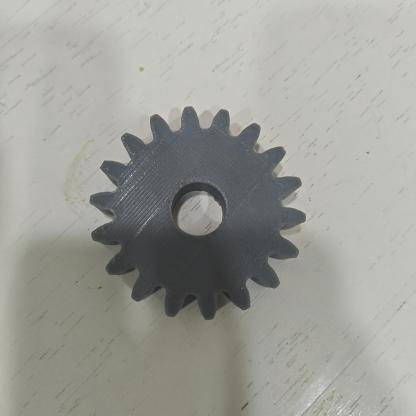gear: (89, 106, 306, 319)
